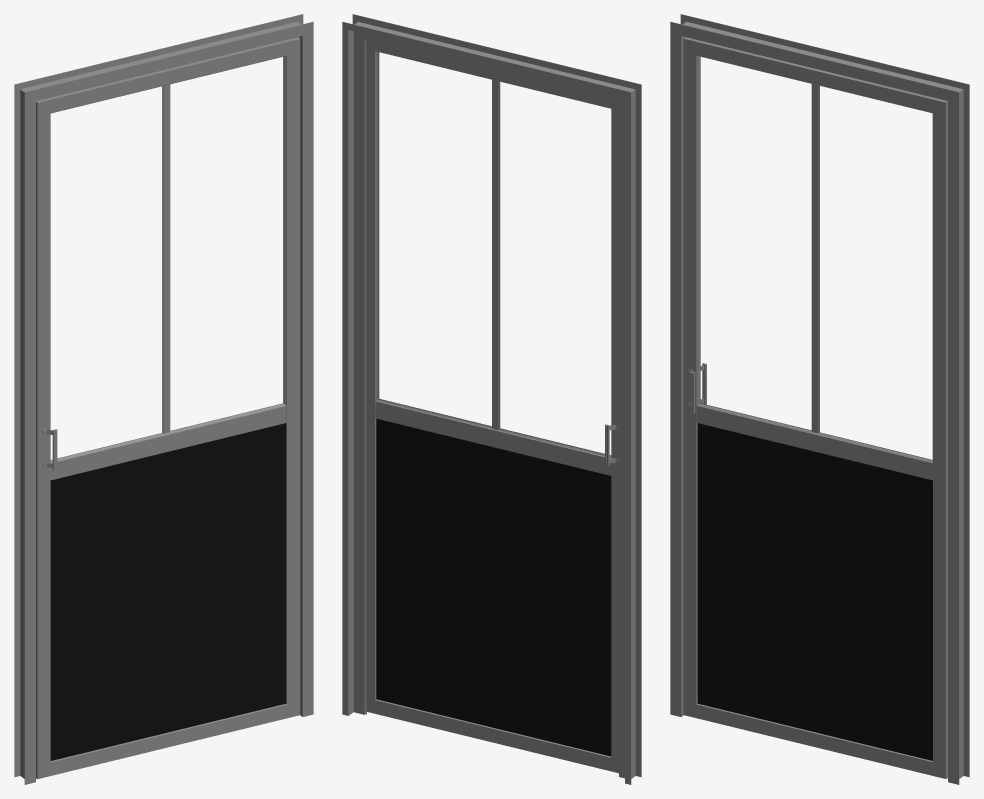
3 renders of one model, left to right at view 1: azimuth 30°, elevation 25°; view 2: azimuth 150°, elevation 25°; view 3: azimuth 330°, elevation 25°, orthographic.
Parts seen in each view (by area): view 1: painel, Rectangle009, Rectangle017, Rectangle018, Rectangle007, Rectangle019; view 2: painel, Rectangle009, Rectangle017, Rectangle018, Rectangle007, Rectangle019; view 3: painel, Rectangle009, Rectangle017, Rectangle018, Rectangle007, Rectangle019.
Part boxes in pixels (box(x1,y1,x2,y2)): painel: box(50, 423, 285, 760); Rectangle009: box(14, 14, 313, 784); Rectangle017: box(36, 37, 300, 779); Rectangle018: box(50, 405, 286, 480); Rectangle007: box(162, 84, 170, 433); Rectangle019: box(50, 56, 286, 462); painel: box(376, 418, 611, 756); Rectangle009: box(342, 14, 641, 784); Rectangle017: box(366, 41, 618, 773); Rectangle018: box(375, 400, 611, 475); Rectangle007: box(492, 79, 500, 430); Rectangle019: box(376, 51, 611, 457); painel: box(697, 423, 932, 760); Rectangle009: box(670, 14, 969, 784); Rectangle017: box(683, 37, 947, 778); Rectangle018: box(696, 405, 932, 480); Rectangle007: box(811, 84, 819, 433); Rectangle019: box(697, 56, 932, 462).
Size of the model in its own units: 912 by 2088 by 82.29.
4 materials, 1 textured.
